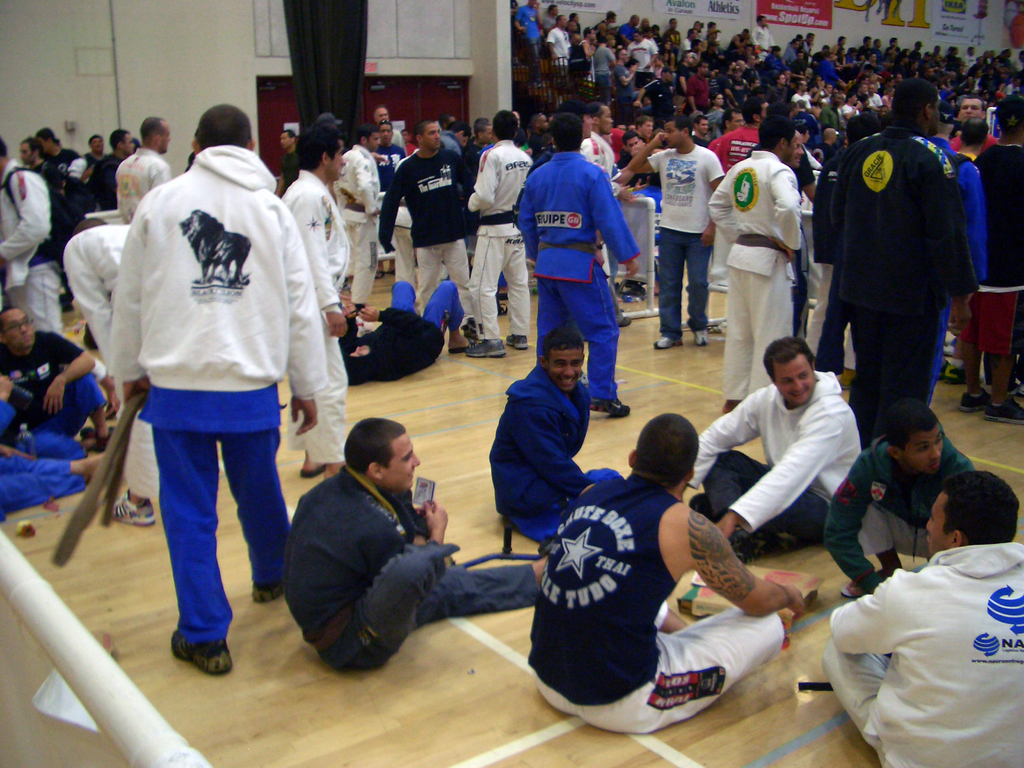person: (843, 91, 884, 146)
